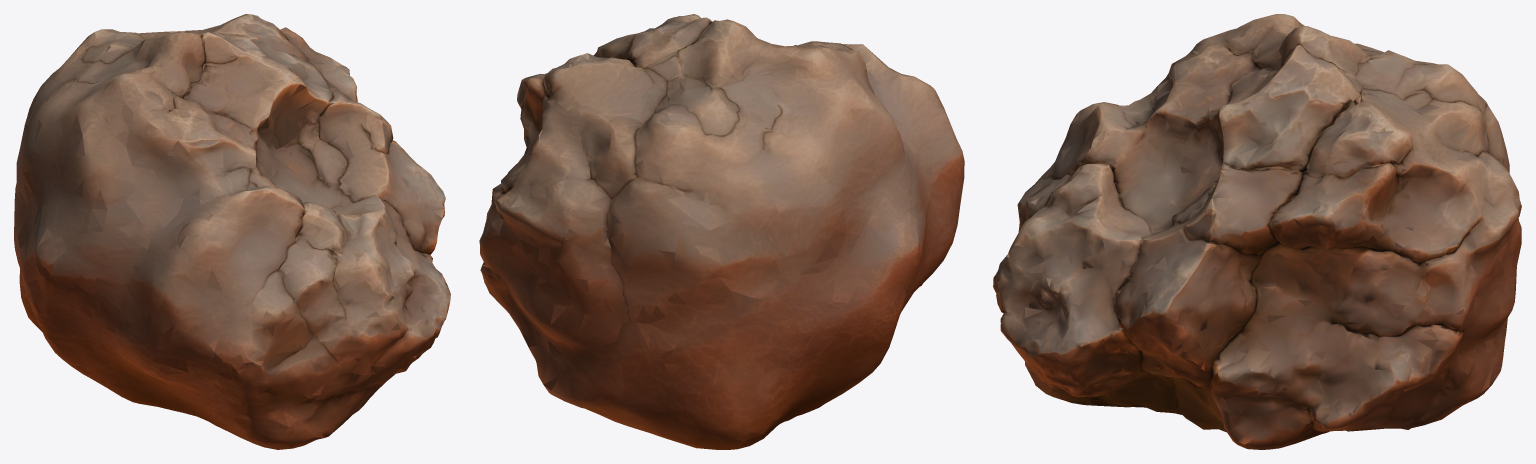
Rendered from Roca.fbx.
3 renders of one model, left to right at view 1: azimuth 30°, elevation 25°; view 2: azimuth 150°, elevation 25°; view 3: azimuth 270°, elevation 25°, orthographic. The views are drawn at different scales.
Visible parts, largest first — view 1: tripo_node_51d41393; view 2: tripo_node_51d41393; view 3: tripo_node_51d41393.
Boxes of the visible parts, bbox=[...] form: tripo_node_51d41393: bbox=[14, 14, 450, 449]; tripo_node_51d41393: bbox=[479, 14, 964, 449]; tripo_node_51d41393: bbox=[993, 14, 1521, 449].
Size of the model in its own units: 83.87 by 75.33 by 100.
Materials: 1 (1 with a texture image).
